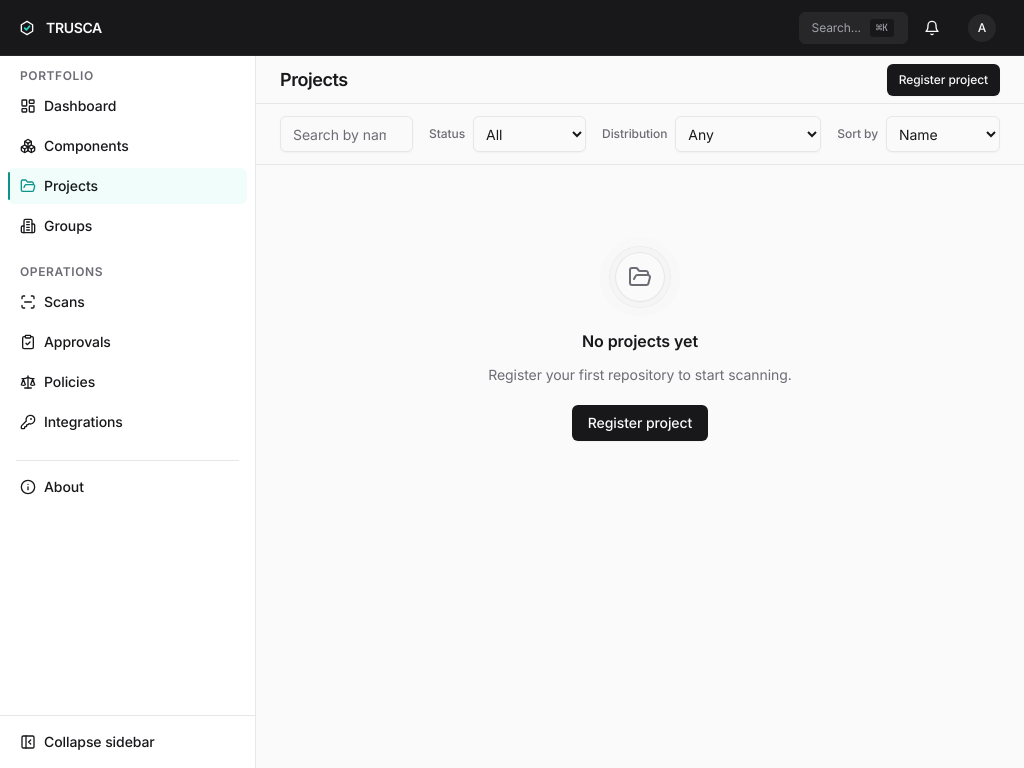
Test: AppShell - skip link and profile menu (C1) › gathers profile, sign-out, theme and language behind one menu
What coordinates should you click on to do the following:
click the button with test id "header-profile-menu"
I would click on:
 (982, 28)
Its box is [956, 12, 1008, 44].
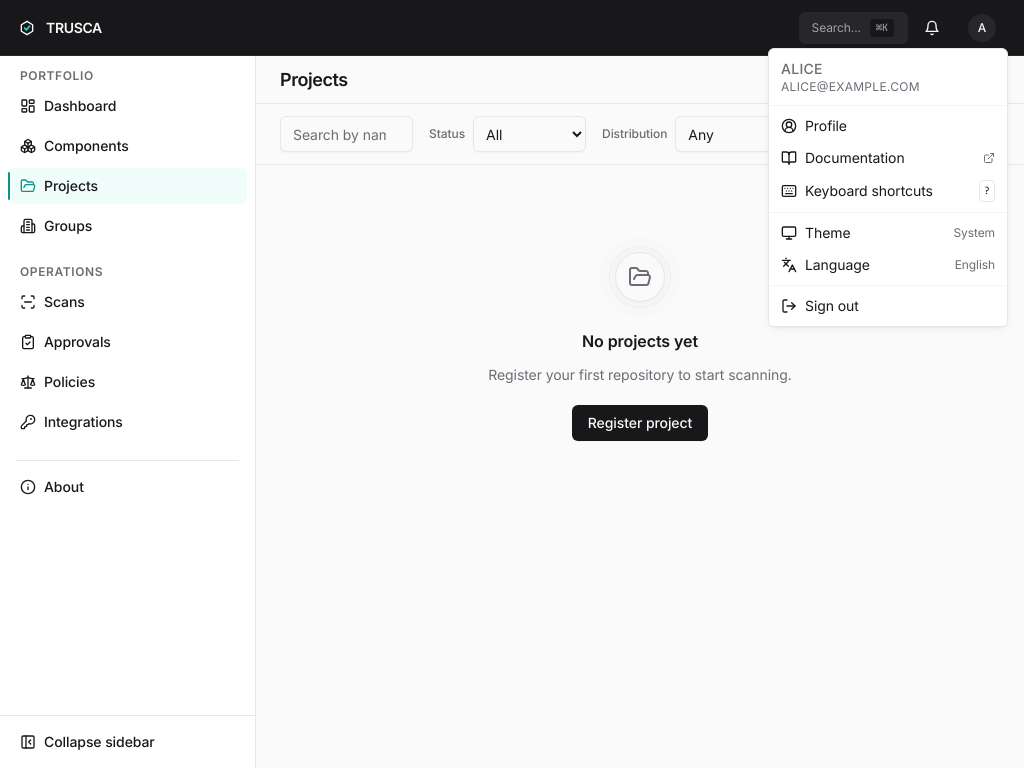
Expected: the menu item with test id "header-profile-link" is shown, [781, 117, 847, 134]
Expected: the menu item with test id "logout-button" is shown, [781, 297, 859, 314]
Expected: the menu item with test id "theme-toggle" is shown, [773, 217, 1003, 249]
